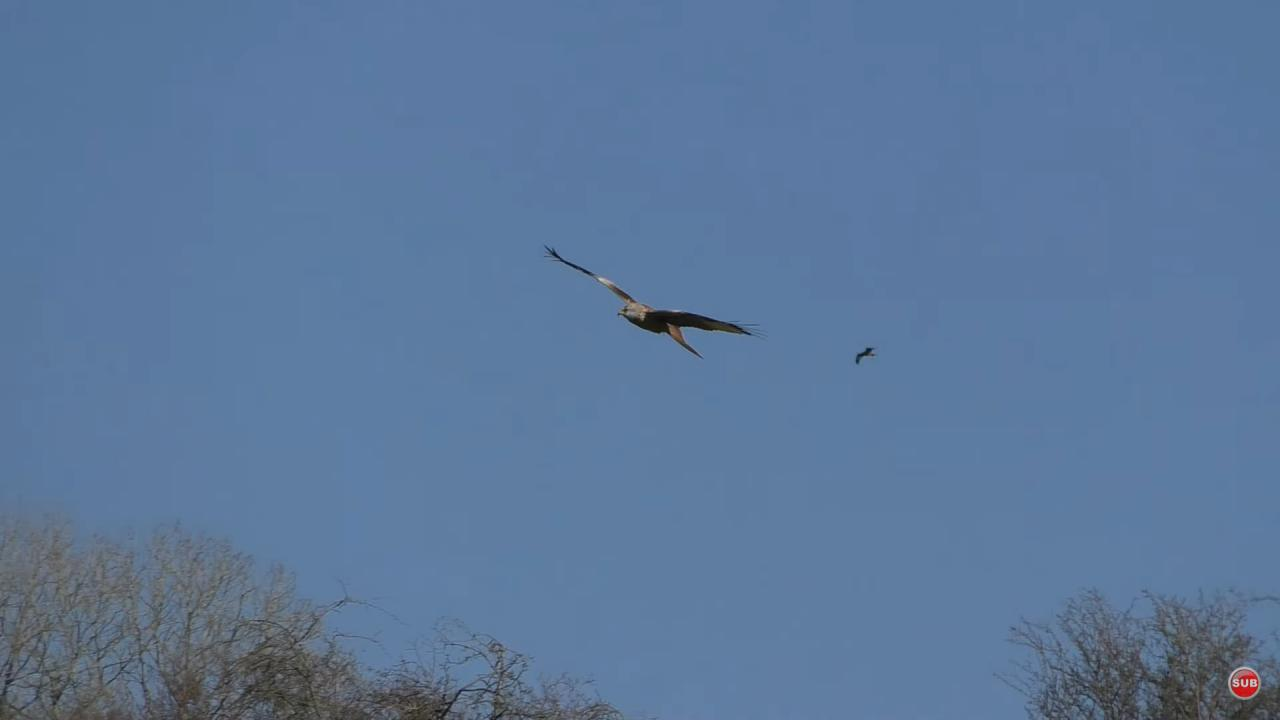Bird: (523, 235, 782, 373), (847, 337, 888, 373)
